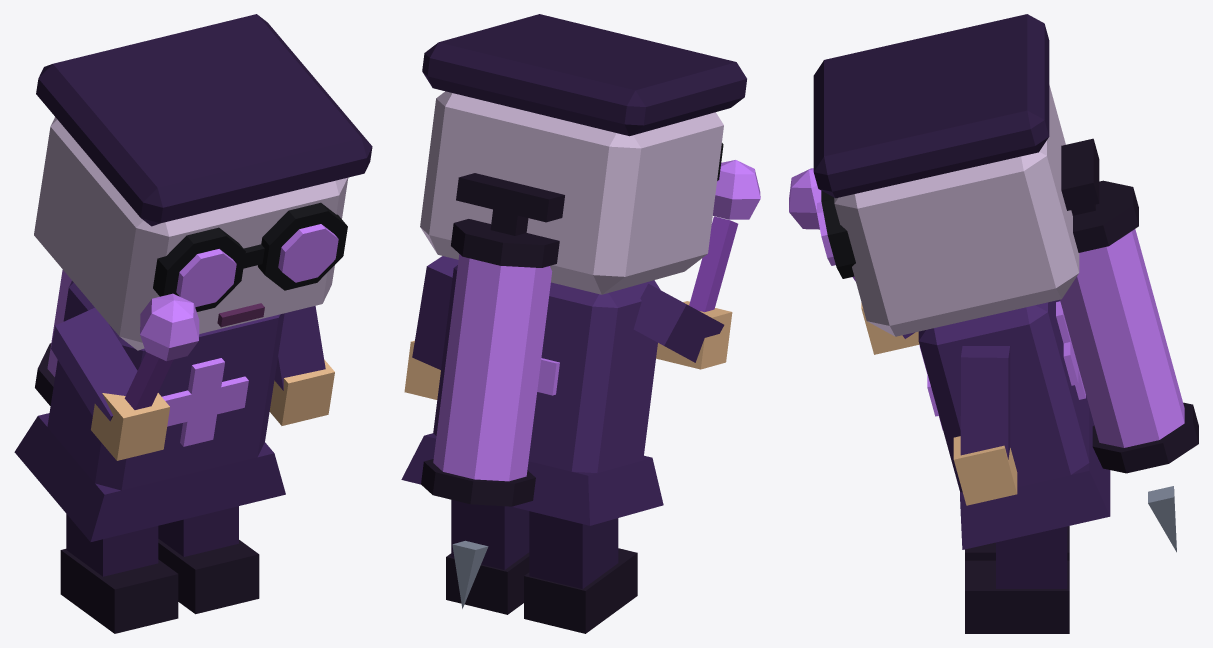
Rendered from medic_enemy.glb.
3 views of the same model, side by side, from view 1: azimuth 30°, elevation 25°; view 2: azimuth 150°, elevation 25°; view 3: azimuth 270°, elevation 25° (orthographic). The views are drawn at different scales.
Visible parts, largest first — view 1: medic_enemy_mesh; view 2: medic_enemy_mesh; view 3: medic_enemy_mesh.
Boxes of the visible parts, x1,y1,x2,y2 form: medic_enemy_mesh: (14, 14, 372, 633); medic_enemy_mesh: (401, 14, 760, 633); medic_enemy_mesh: (789, 14, 1198, 633).
Size of the model in its own units: 0.7643 by 1.5 by 1.04.
1 material, 1 textured.
